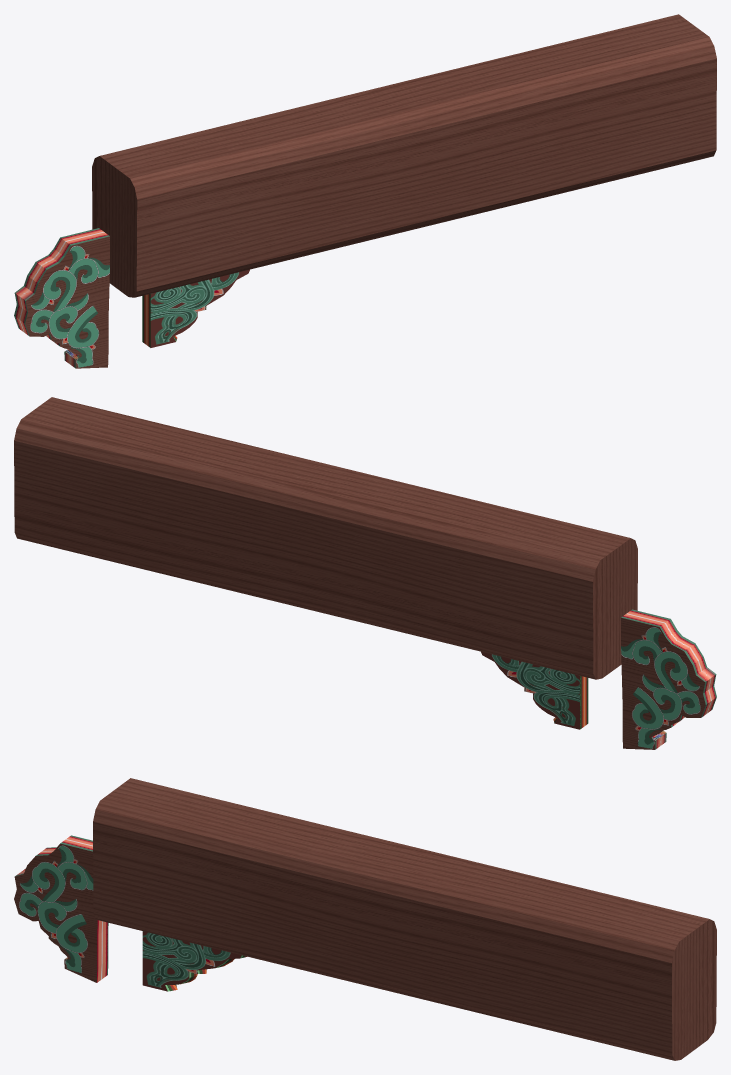
The model's file is SM_R_Beam_3.fbx.
3 renders of one model, top to bottom at view 1: azimuth 30°, elevation 25°; view 2: azimuth 150°, elevation 25°; view 3: azimuth 330°, elevation 25°, orthographic.
Visible parts, largest first — view 1: SM_R_Beam_3; view 2: SM_R_Beam_3; view 3: SM_R_Beam_3.
Part boxes in pixels (x1,y1,x2,y2): SM_R_Beam_3: (14, 14, 716, 368); SM_R_Beam_3: (14, 397, 716, 749); SM_R_Beam_3: (14, 778, 716, 1060).
Size of the model in its own units: 357 by 41.44 by 97.49.
Materials: 4 (4 with a texture image).
